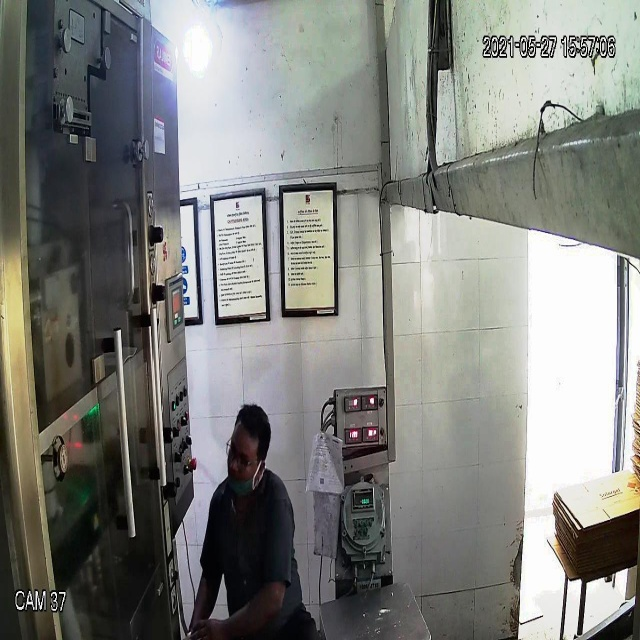Gafas: (223, 433, 266, 476)
